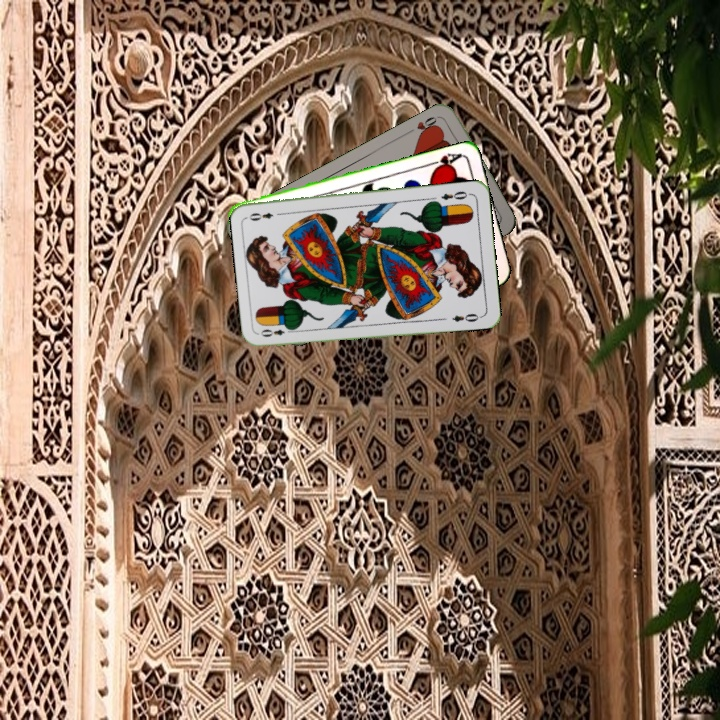EO: (256, 323, 296, 340), (437, 187, 470, 202)
HA: (424, 149, 464, 174)
HO: (405, 112, 443, 139)
